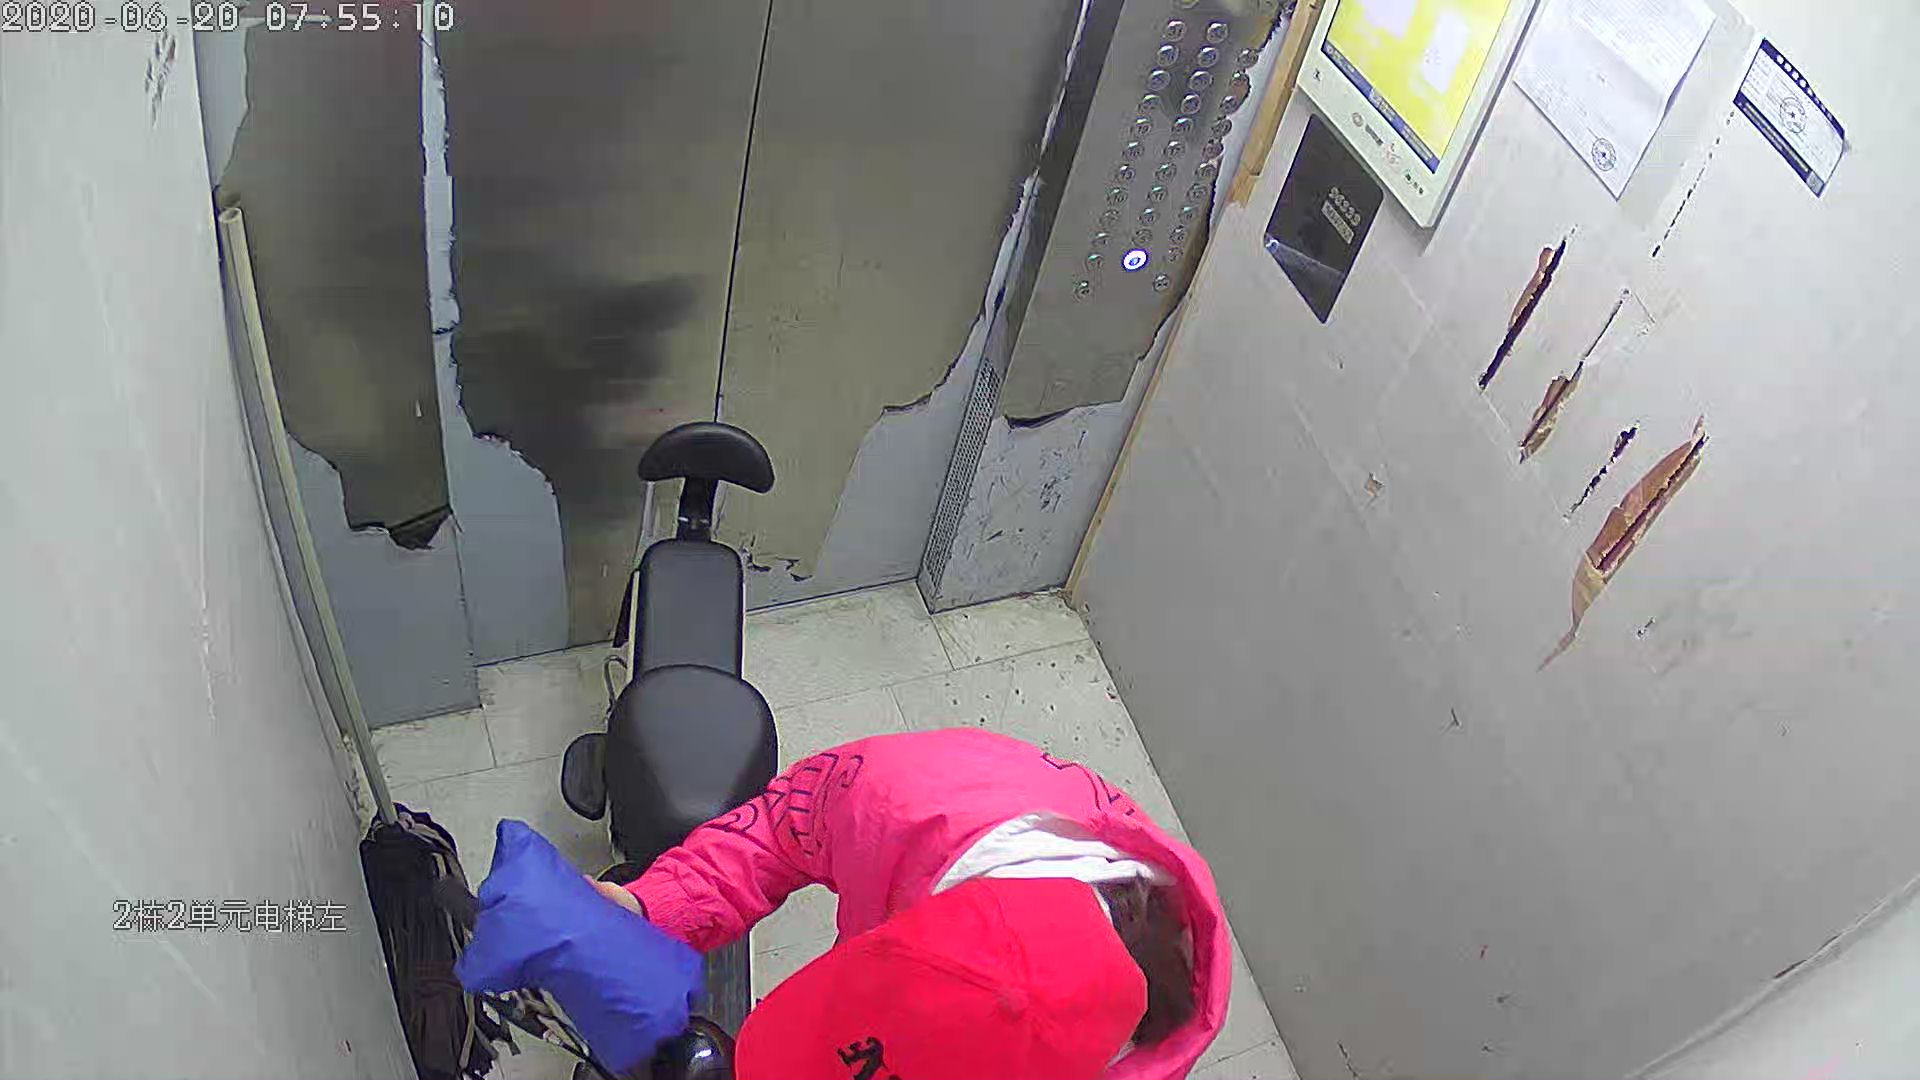Electric-bicycle: (473, 422, 796, 1080)
